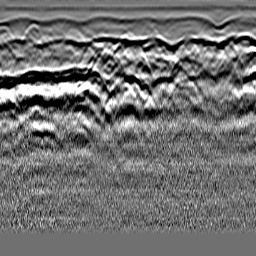cavity: (117, 29, 141, 50)
